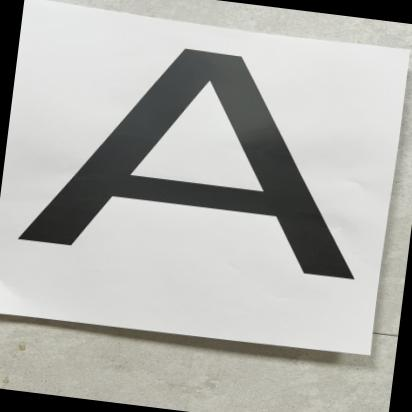seat: (25, 25, 384, 292)
